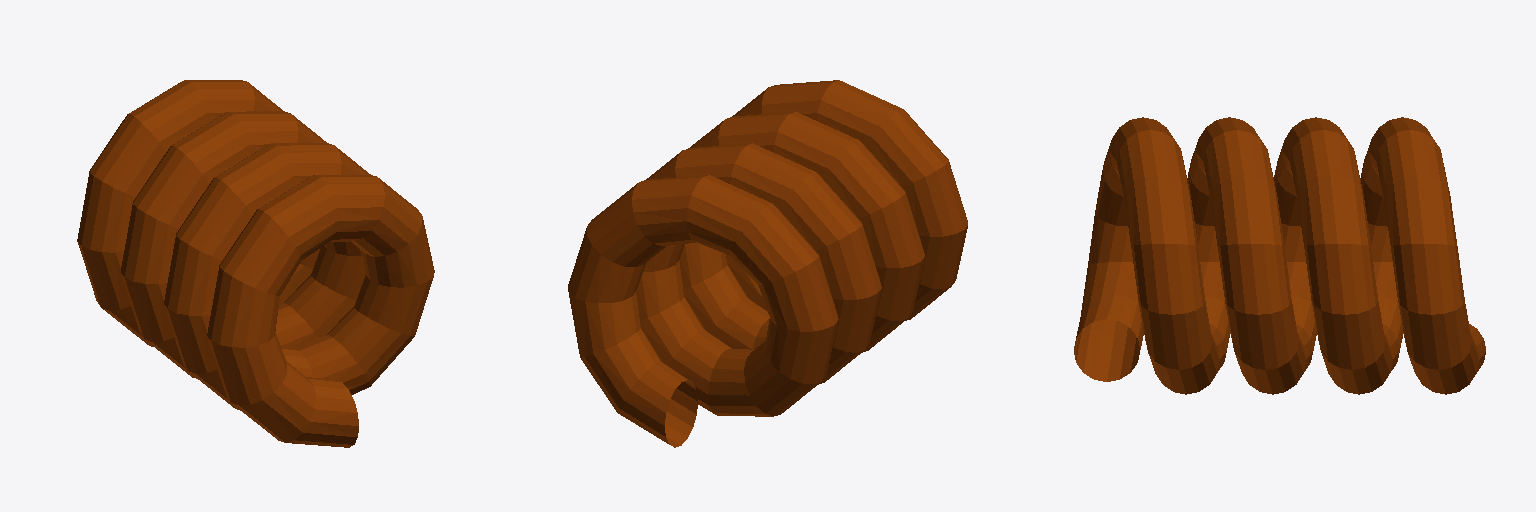
Rendered from Screw.obj.
The picture shows the model from 3 angles: view 1: azimuth 30°, elevation 25°; view 2: azimuth 150°, elevation 25°; view 3: azimuth 270°, elevation 25°; orthographic projection.
Parts seen in each view (by area): view 1: Screw_Circle.001; view 2: Screw_Circle.001; view 3: Screw_Circle.001.
Boxes of the visible parts, x1,y1,x2,y2 form: Screw_Circle.001: [77, 80, 434, 447]; Screw_Circle.001: [568, 80, 967, 447]; Screw_Circle.001: [1074, 117, 1485, 394].
Size of the model in its own units: 0.9196 by 0.9196 by 1.36.